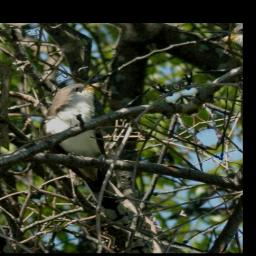Cuckoo: (17, 73, 183, 235)
